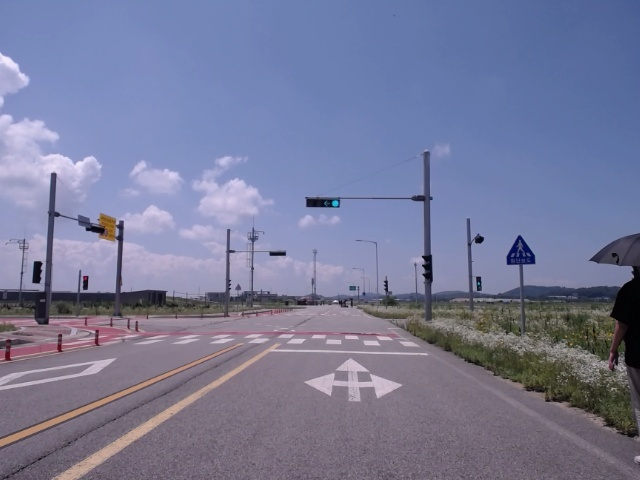all_green_4: (305, 195, 341, 209)
